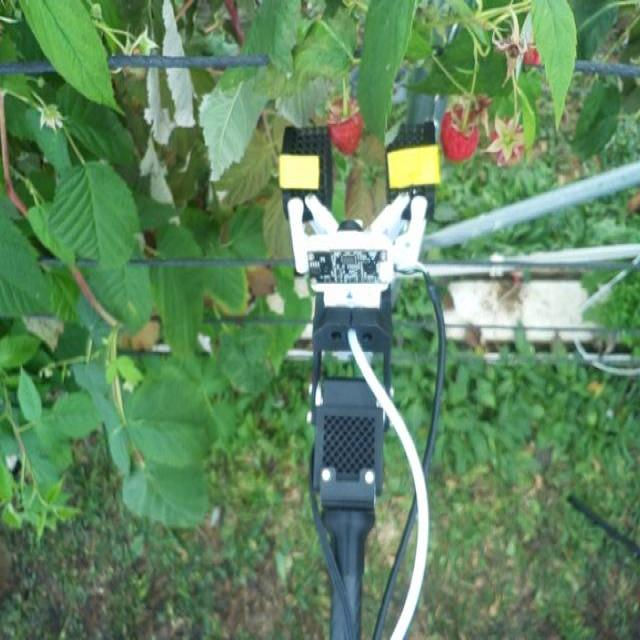Riped berries: (325, 95, 365, 157), (491, 115, 528, 171), (441, 103, 479, 157)
